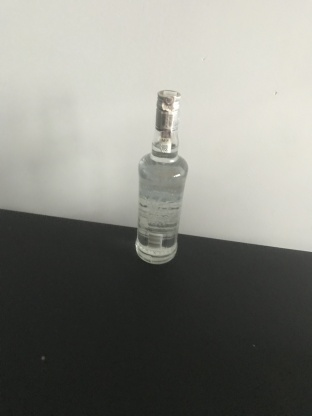nakretka: (154, 87, 182, 132)
